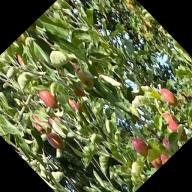Apples: (73, 67, 97, 90), (29, 112, 52, 136), (160, 110, 183, 134), (130, 135, 152, 158), (38, 88, 60, 110), (159, 87, 180, 108), (47, 114, 68, 134), (45, 130, 65, 150), (66, 95, 83, 113), (70, 82, 86, 98), (160, 136, 175, 151), (14, 53, 28, 68), (157, 150, 171, 164)
